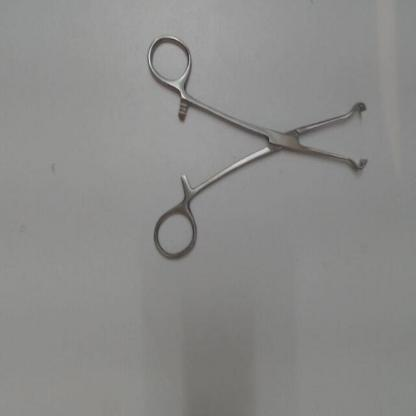Babcock Tissue Forceps: (142, 27, 372, 266)
